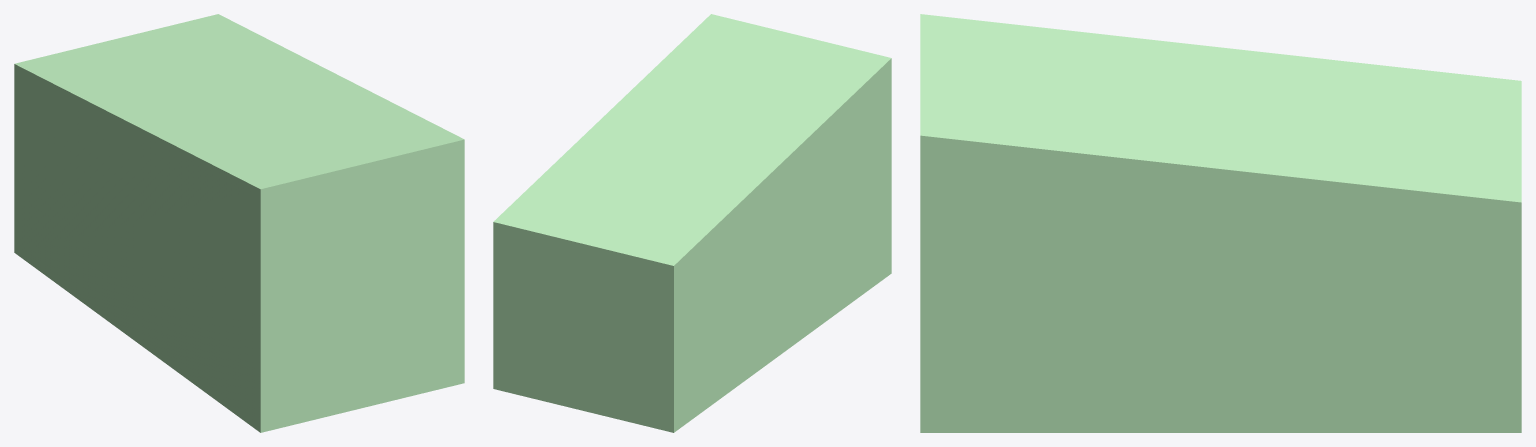
The model's file is garage_6x3.fbx.
3 views of the same model, side by side, from view 1: azimuth 30°, elevation 25°; view 2: azimuth 150°, elevation 25°; view 3: azimuth 270°, elevation 25° (orthographic). The views are drawn at different scales.
Parts seen in each view (by area): view 1: Model; view 2: Model; view 3: Model.
Part boxes in pixels (left/top/right/bottom): Model: left=14, top=14, right=464, bottom=432; Model: left=493, top=14, right=891, bottom=432; Model: left=920, top=14, right=1521, bottom=432.
Bounding box in the file's own units: 3000 × 3421 × 6270.
